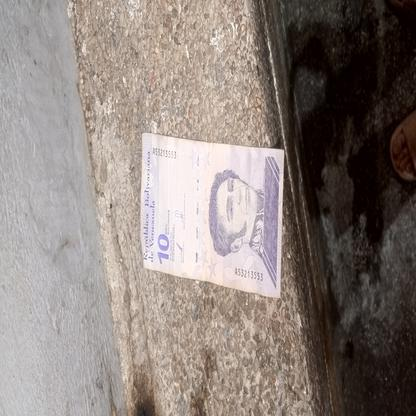ten-front-vef: (140, 132, 286, 300)
